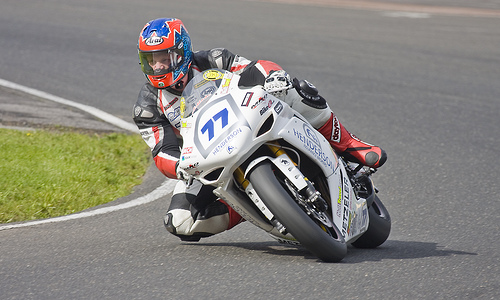helmet: (135, 22, 193, 81)
